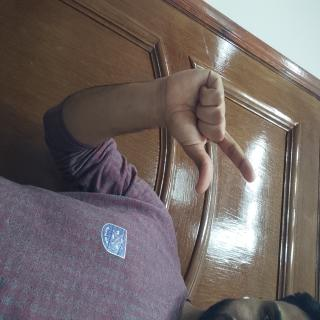DELL: (48, 78, 152, 210)
